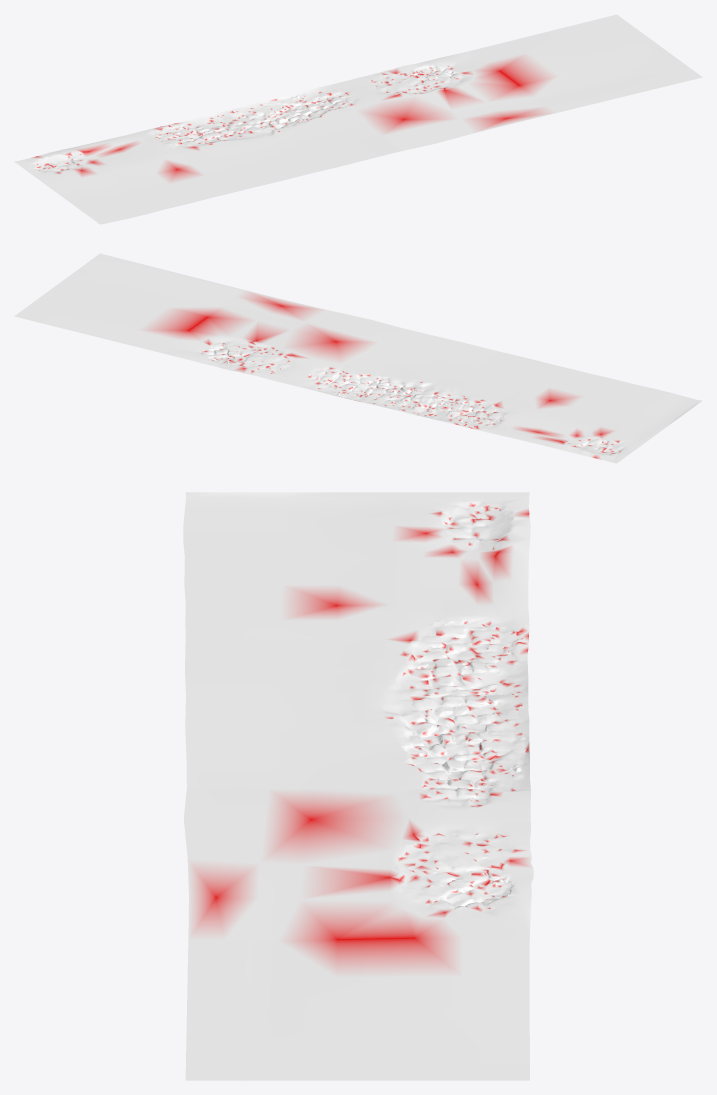
Rendered from sm_Street_01_01.FBX.
3 views of the same model, one above another, from view 1: azimuth 30°, elevation 25°; view 2: azimuth 150°, elevation 25°; view 3: azimuth 270°, elevation 25° (orthographic). The views are drawn at different scales.
Parts seen in each view (by area): view 1: sm_Street_01_01_LOD0; view 2: sm_Street_01_01_LOD0; view 3: sm_Street_01_01_LOD0.
Boxes of the visible parts, x1,y1,x2,y2 form: sm_Street_01_01_LOD0: (14, 14, 702, 224); sm_Street_01_01_LOD0: (14, 253, 702, 463); sm_Street_01_01_LOD0: (183, 492, 533, 1080).
Size of what is drawn, in the model's own units: 1600 by 403 by 14.57.
